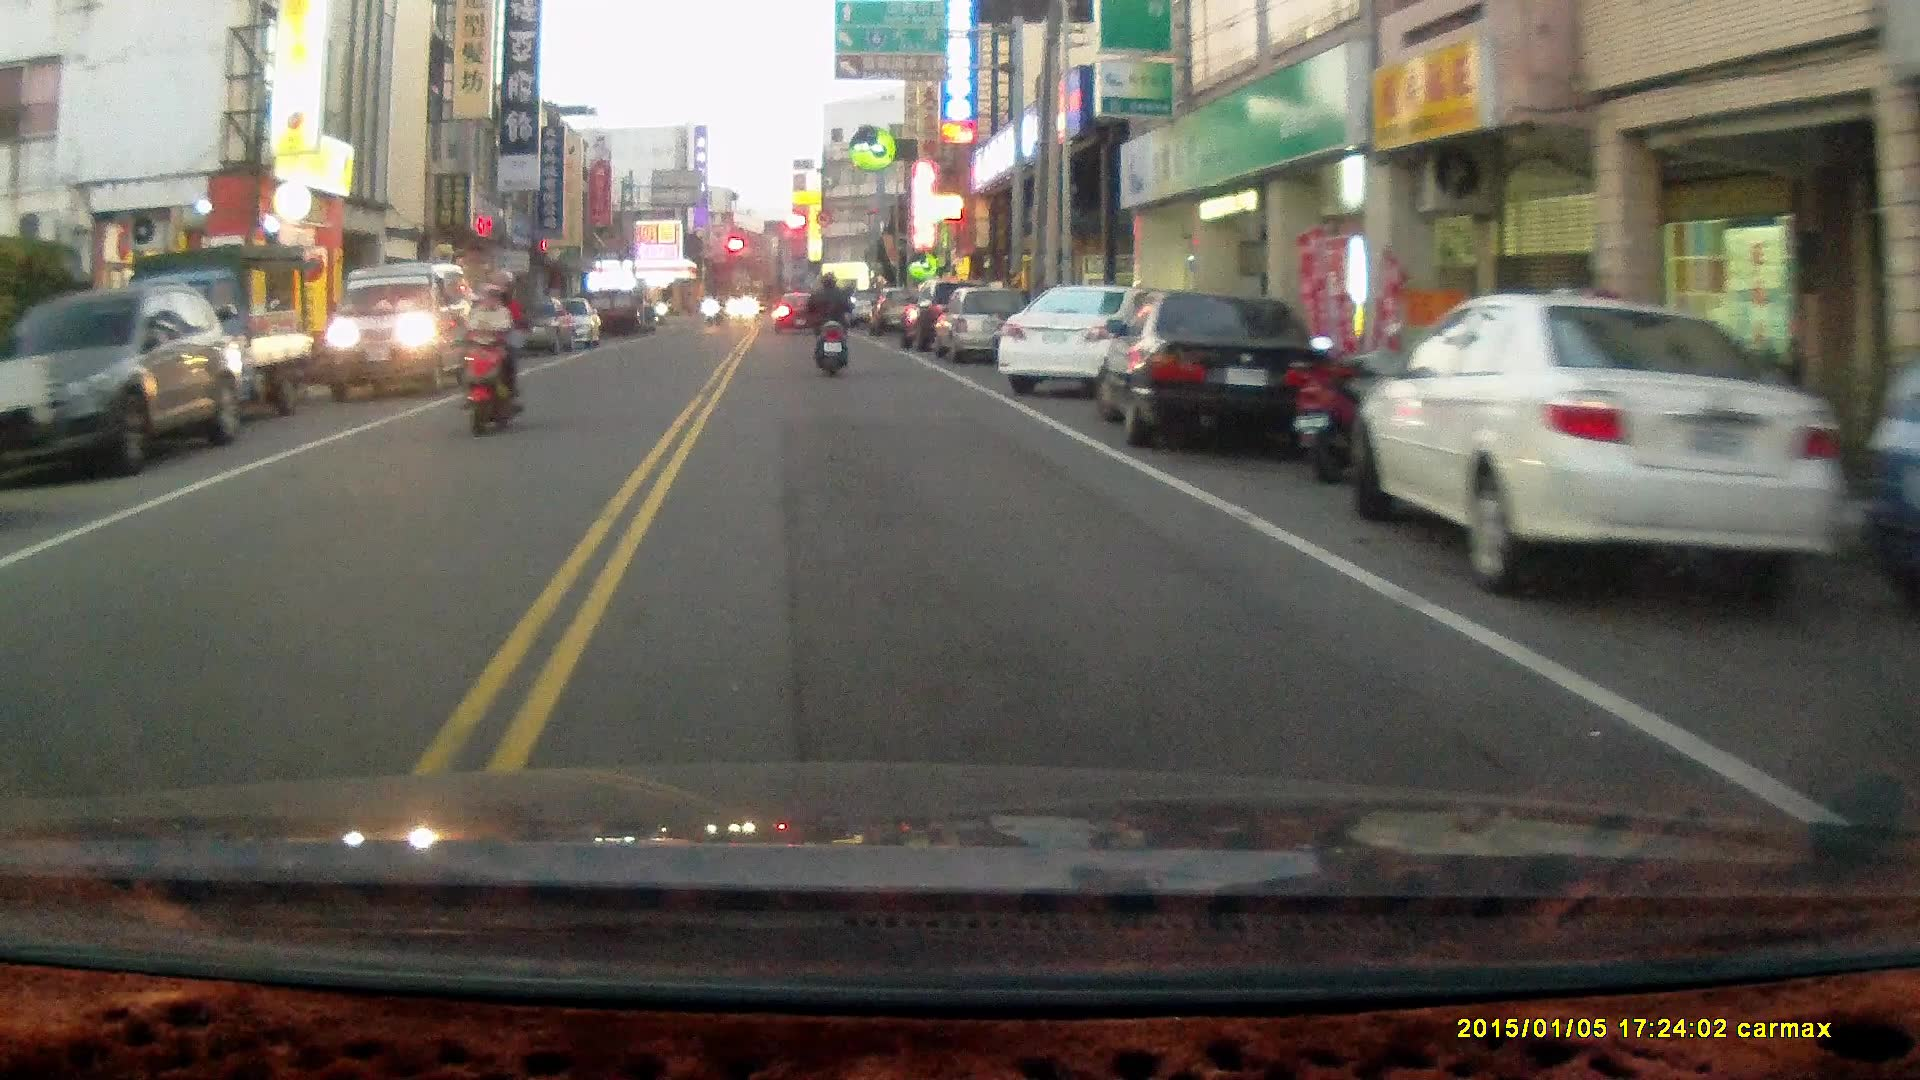rider: (457, 266, 522, 437), (805, 271, 851, 383)
vehicle: (1353, 293, 1868, 598), (7, 283, 237, 491), (1093, 292, 1328, 458), (97, 248, 313, 428), (994, 286, 1179, 401), (324, 260, 470, 396), (930, 284, 1035, 368)
